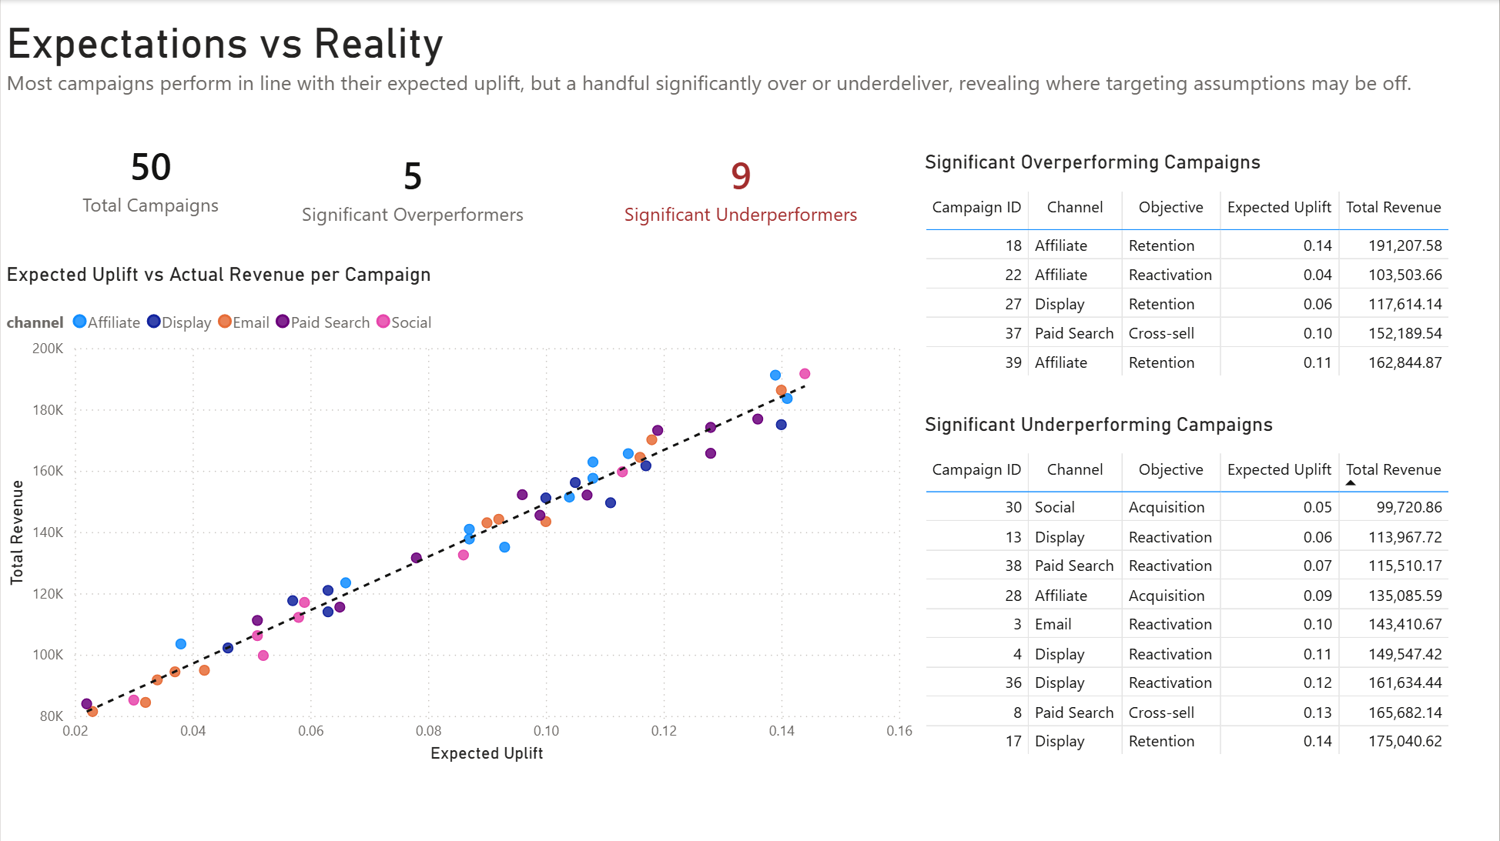

What the dashboard file says about the page in this screenshot:
{"tool":"powerbi","page":{"name":"Campaign","canvas":[1280,720],"ordinal":3},"visuals":[{"type":"textbox","title":"Expectations vs Reality","box":[0,16,1232,80],"z":0},{"type":"cardVisual","fields":{"Data":["Count(q2_revenue_vs_expected_uplift_per_campaign.campaign_id)"]},"box":[0,96,256,112],"z":1000},{"type":"cardVisual","fields":{"Data":["Count(q2_revenue_vs_expected_uplift_per_campaign.campaign_id)"]},"box":[224,96,256,128],"z":2000},{"type":"cardVisual","fields":{"Data":["Count(q2_revenue_vs_expected_uplift_per_campaign.campaign_id)"]},"box":[496,96,272,128],"z":3000},{"type":"scatterChart","title":"Expected Uplift vs Actual Revenue per Campaign","fields":{"X":["Sum(q2_revenue_vs_expected_uplift_per_campaign.expected_uplift)"],"Y":["Sum(q2_revenue_vs_expected_uplift_per_campaign.total_revenue)"],"Series":["q2_revenue_vs_expected_uplift_per_campaign.channel"],"Category":["q2_revenue_vs_expected_uplift_per_campaign.campaign_id"]},"box":[0,224,784,432],"z":4000},{"type":"tableEx","title":"Significant Overperforming Campaigns","fields":{"Values":["q2_revenue_vs_expected_uplift_per_campaign.campaign_id","q2_revenue_vs_expected_uplift_per_campaign.channel","q2_revenue_vs_expected_uplift_per_campaign.objective","Sum(q2_revenue_vs_expected_uplift_per_campaign.expected_uplift)","Sum(q2_revenue_vs_expected_uplift_per_campaign.total_revenue)"]},"box":[784,128,480,208],"z":5000},{"type":"tableEx","title":"Significant Underperforming Campaigns","fields":{"Values":["q2_revenue_vs_expected_uplift_per_campaign.campaign_id","q2_revenue_vs_expected_uplift_per_campaign.channel","q2_revenue_vs_expected_uplift_per_campaign.objective","Sum(q2_revenue_vs_expected_uplift_per_campaign.expected_uplift)","Sum(q2_revenue_vs_expected_uplift_per_campaign.total_revenue)"]},"box":[784,352,480,304],"z":6000}]}

Visuals, with their boxes in screenshot pixels (x1, y1, x2, y2), scaled from the page's 1280x720 canvas onto the 1500x841 screenshot:
"Expectations vs Reality" textbox: (0, 19, 1444, 112)
cardVisual - Count(q2_revenue_vs_expected_uplift_per_campaign.campaign_id): (0, 112, 300, 243)
cardVisual - Count(q2_revenue_vs_expected_uplift_per_campaign.campaign_id): (262, 112, 562, 262)
cardVisual - Count(q2_revenue_vs_expected_uplift_per_campaign.campaign_id): (581, 112, 900, 262)
"Expected Uplift vs Actual Revenue per Campaign" scatterChart: (0, 262, 919, 766)
"Significant Overperforming Campaigns" tableEx: (919, 150, 1481, 392)
"Significant Underperforming Campaigns" tableEx: (919, 411, 1481, 766)
